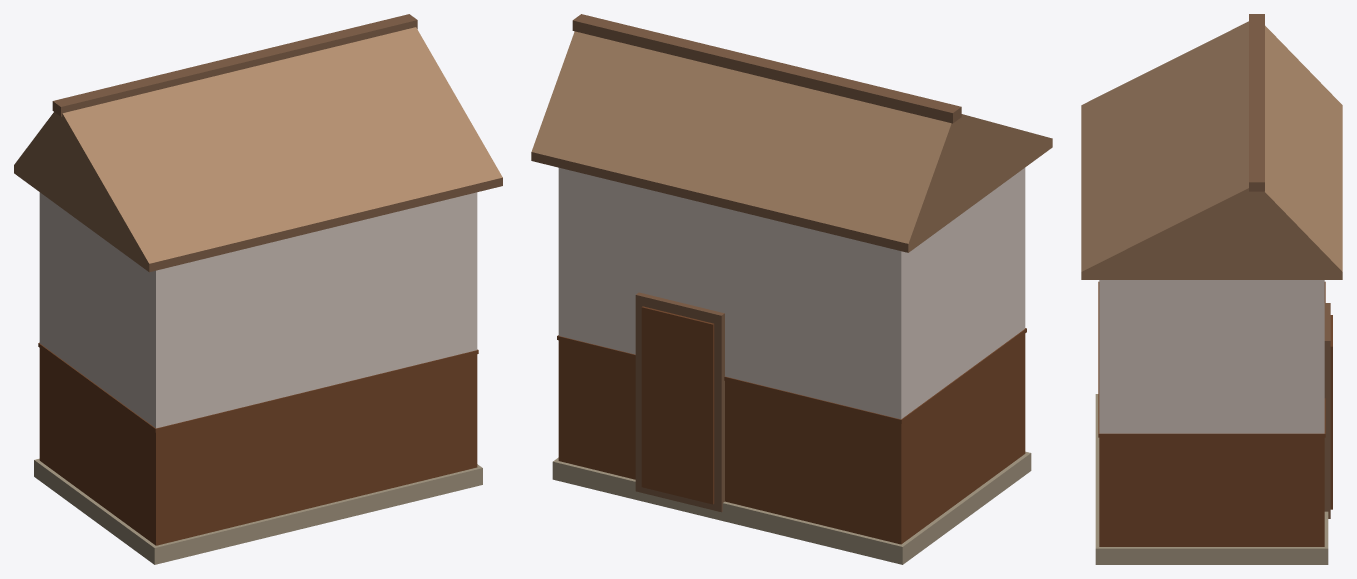
The model's file is umber_house.glb.
3 renders of one model, left to right at view 1: azimuth 30°, elevation 25°; view 2: azimuth 150°, elevation 25°; view 3: azimuth 270°, elevation 25°, orthographic. The views are drawn at different scales.
Visible parts, largest first — view 1: FoldedRoof.001, PlasterWalls.001, TimberSkirt.001, StoneFooting.001, RidgeCap.001, SkirtFlashing.001; view 2: PlasterWalls.001, FoldedRoof.001, TimberSkirt.001, RearDoor.001, StoneFooting.001, RidgeCap.001, RearDoorFrame.001, SkirtFlashing.001; view 3: FoldedRoof.001, PlasterWalls.001, TimberSkirt.001, StoneFooting.001, RidgeCap.001, SkirtFlashing.001, RearDoorFrame.001, RearDoor.001.
Boxes of the visible parts, x1,y1,x2,y2 form: FoldedRoof.001: [14, 27, 502, 272]; PlasterWalls.001: [39, 192, 477, 428]; TimberSkirt.001: [39, 348, 477, 545]; StoneFooting.001: [34, 458, 482, 564]; RidgeCap.001: [52, 14, 417, 116]; SkirtFlashing.001: [38, 342, 478, 432]; PlasterWalls.001: [558, 167, 1025, 419]; FoldedRoof.001: [531, 31, 1052, 252]; TimberSkirt.001: [558, 334, 1025, 544]; RearDoor.001: [641, 306, 714, 504]; StoneFooting.001: [552, 451, 1031, 564]; RidgeCap.001: [572, 14, 961, 123]; RearDoorFrame.001: [635, 292, 724, 512]; SkirtFlashing.001: [557, 328, 1026, 423]; FoldedRoof.001: [1081, 21, 1342, 279]; PlasterWalls.001: [1099, 280, 1324, 433]; TimberSkirt.001: [1099, 437, 1324, 546]; StoneFooting.001: [1095, 394, 1328, 564]; RidgeCap.001: [1249, 14, 1264, 191]; SkirtFlashing.001: [1098, 281, 1325, 437]; RearDoorFrame.001: [1324, 303, 1330, 518]; RearDoor.001: [1330, 315, 1332, 509].
Bounding box in the file's own units: 2.88 × 3.11 × 1.89.
